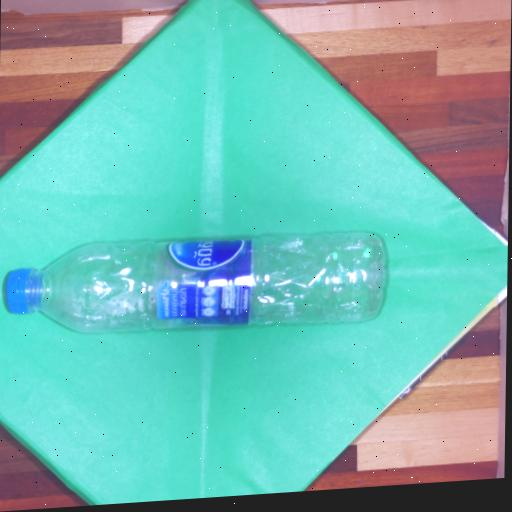bottle: (6, 232, 384, 331)
